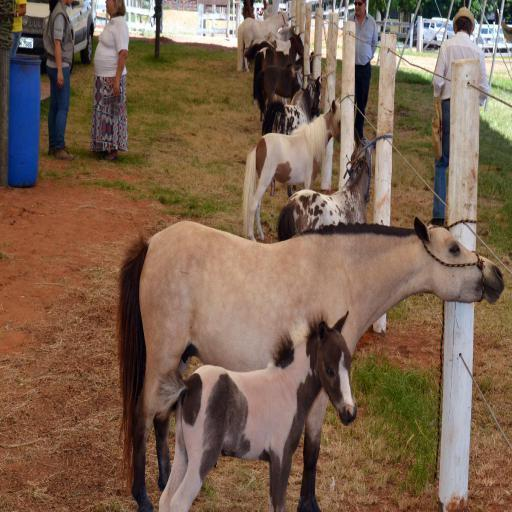horse: (114, 214, 506, 512), (146, 312, 360, 512), (236, 5, 324, 201), (240, 98, 343, 242), (274, 127, 374, 245)
